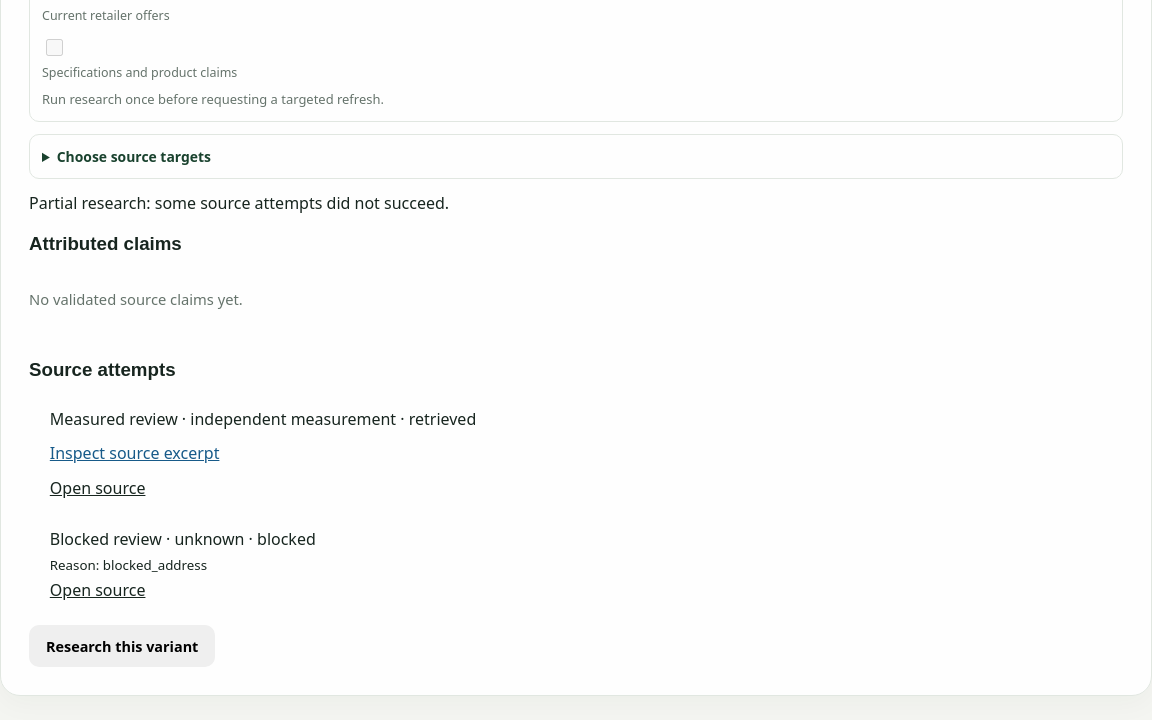
Test: shows blocked attempts and opens the retained source excerpt
(page scrolled)
Expected: the text "Partial research: some source attempts did not succeed." is shown, [29,192,449,214]
Expected: the text "Reason: blocked_address" is shown, [50,556,207,574]
Click the button "Inspect source excerpt". click: (135, 453)
box: [50,439,1115,468]
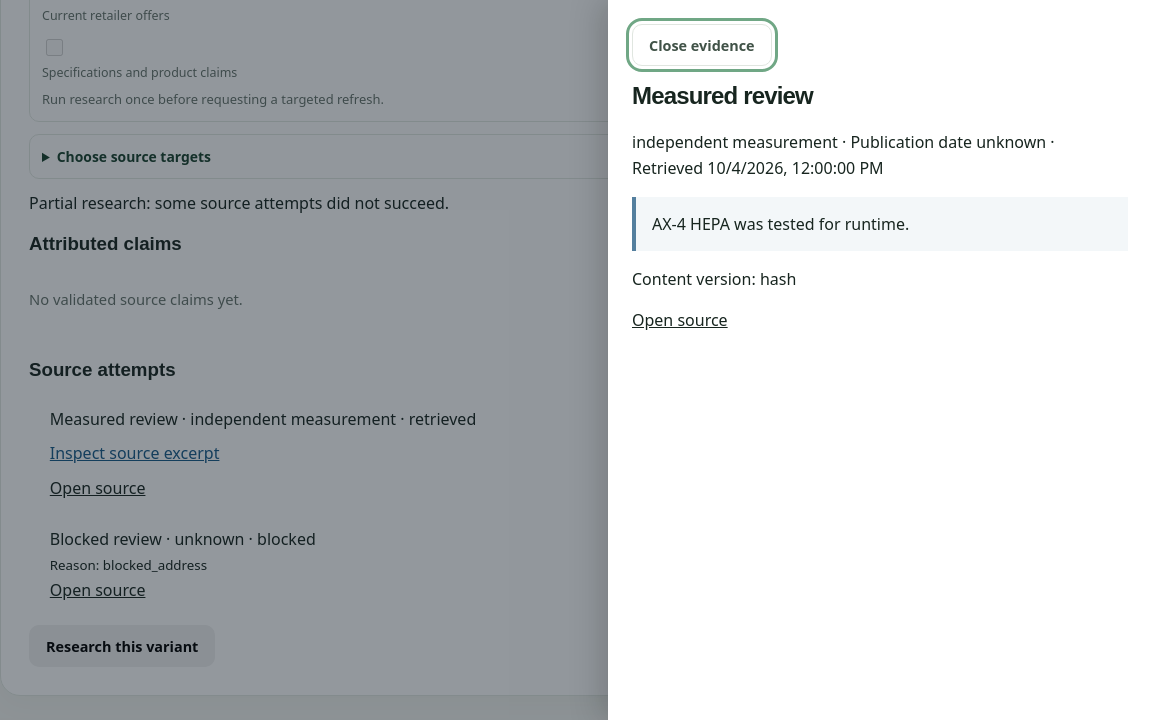
Result: the dialog named "Evidence inspection" shows "AX-4 HEPA was tested for runtime." at [652,213,909,235]
Result: the dialog named "Evidence inspection" shows "Publication date unknown" at [850,131,1046,153]
Click the button "Close evidence". click: (702, 45)
box: [632,24,772,66]
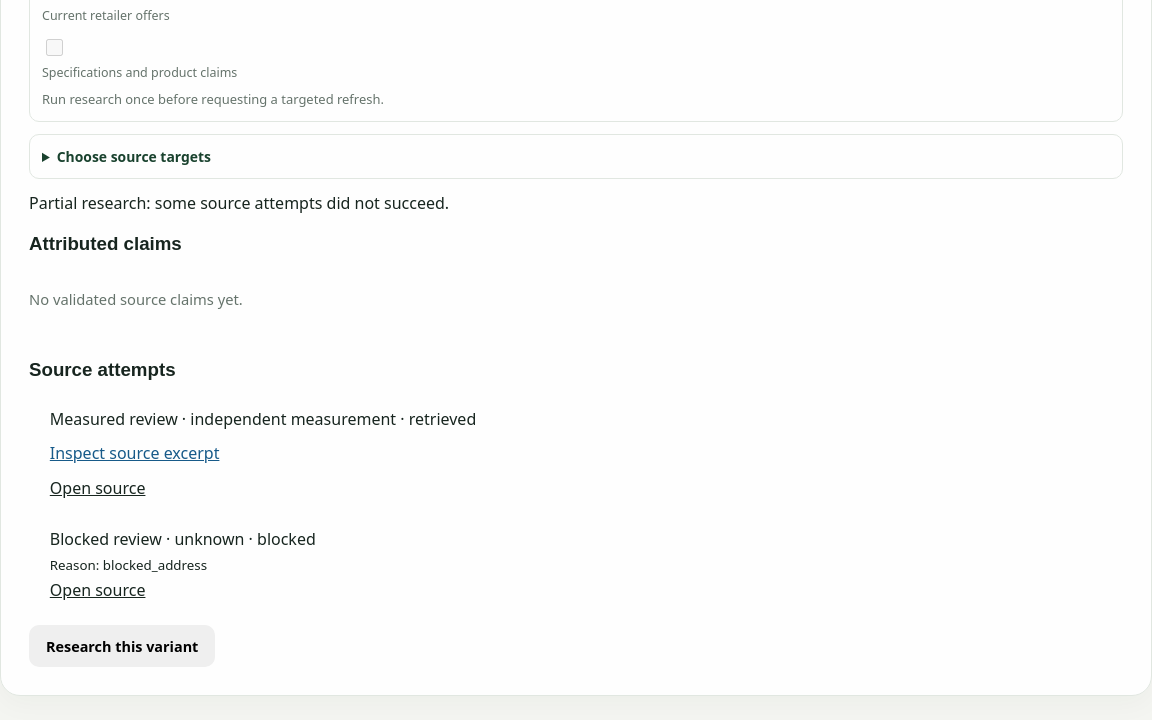
Result: the dialog is gone
